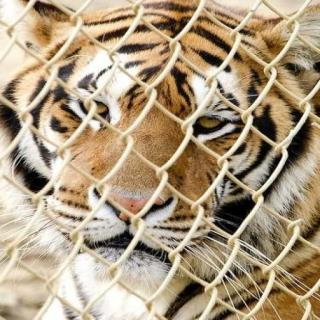Tiger: (14, 1, 319, 289)
